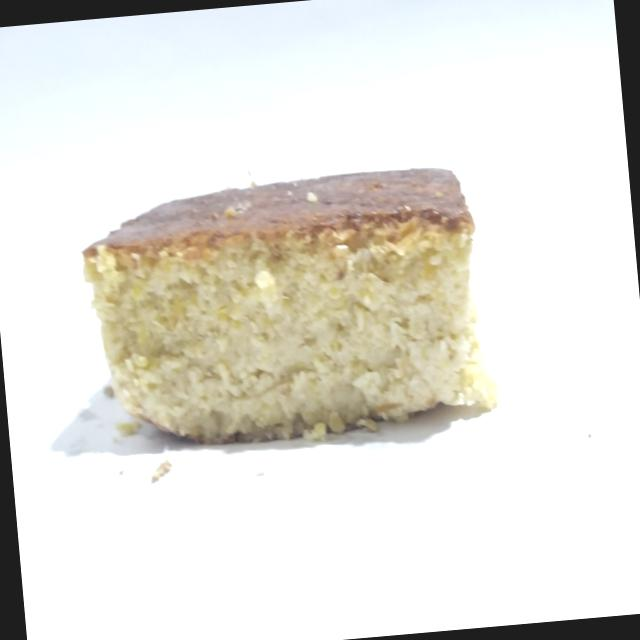Chipa_Guazu: (57, 140, 520, 476)
